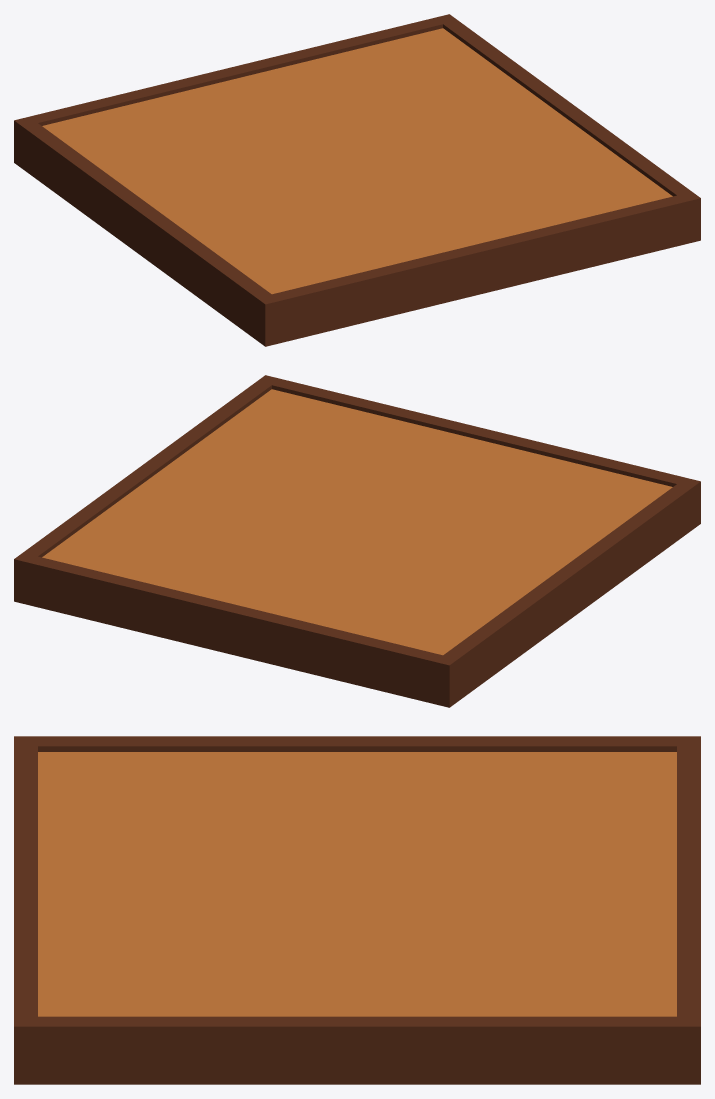
File: PopUp2.fbx
The picture shows the model from 3 angles, top to bottom: view 1: azimuth 30°, elevation 25°; view 2: azimuth 150°, elevation 25°; view 3: azimuth 270°, elevation 25°; orthographic projection. The views are drawn at different scales.
Visible parts, largest first — view 1: Cube_2; view 2: Cube_2; view 3: Cube_2.
Boxes of the visible parts, box(x1,y1,x2,y2) form: Cube_2: box(14, 14, 700, 346); Cube_2: box(14, 375, 700, 707); Cube_2: box(14, 736, 700, 1084).
Size of the model in its own units: 806 by 75 by 806.
